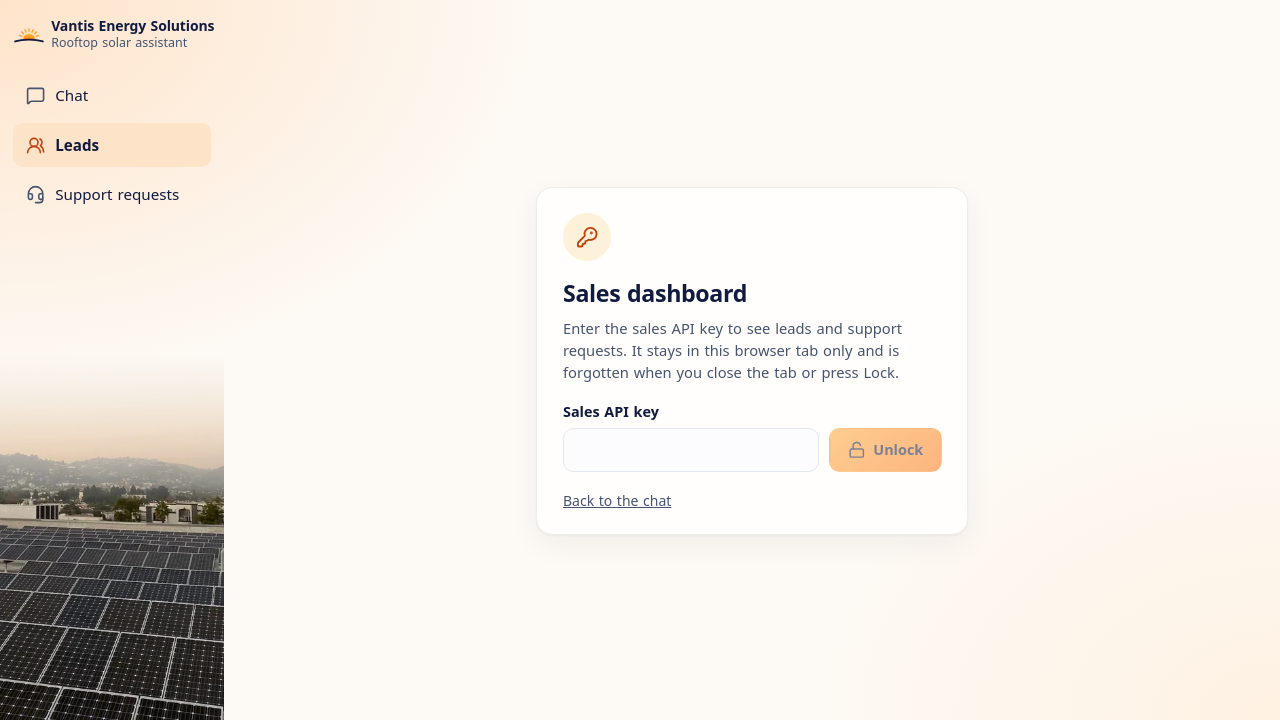
Test: unlock › 429: says how long to wait, from retry_after or the Retry-After header
In the password field labelled "Sales API key": [691, 450] box [563,428,820,472], type "test-sales-key-0123456789"
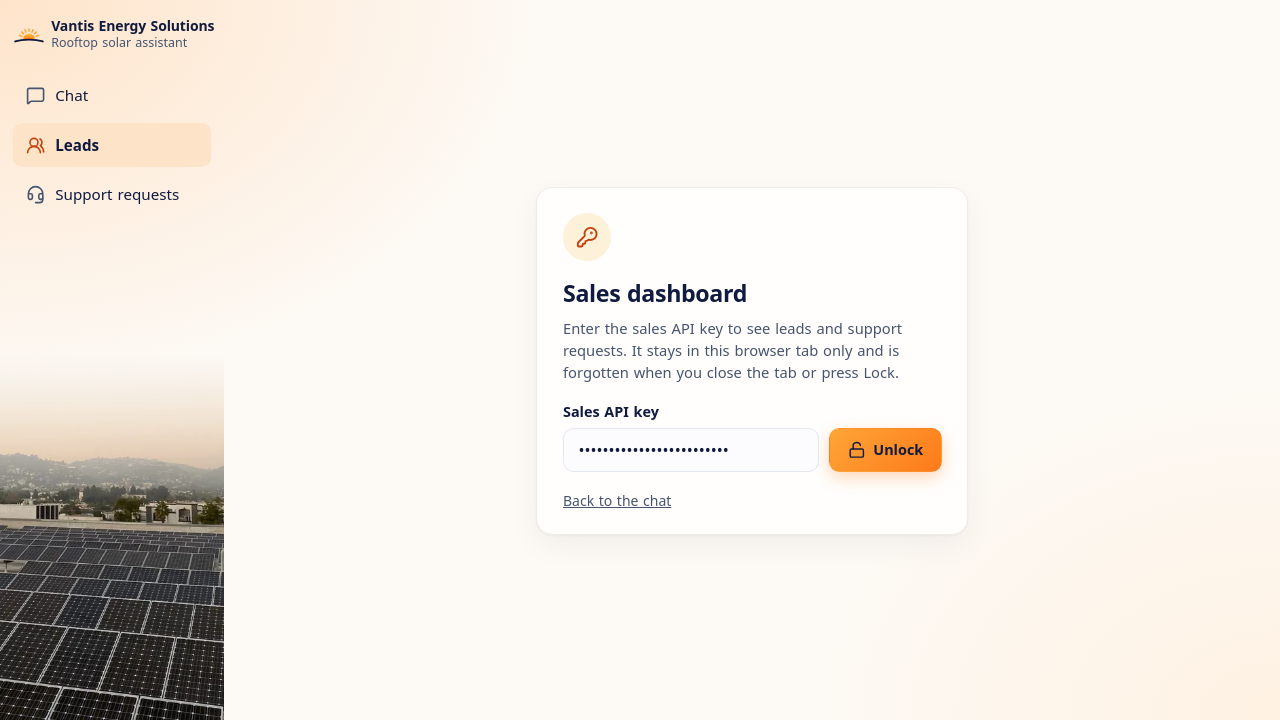
Click the button "Unlock": [885, 450] box [829,428,942,472]
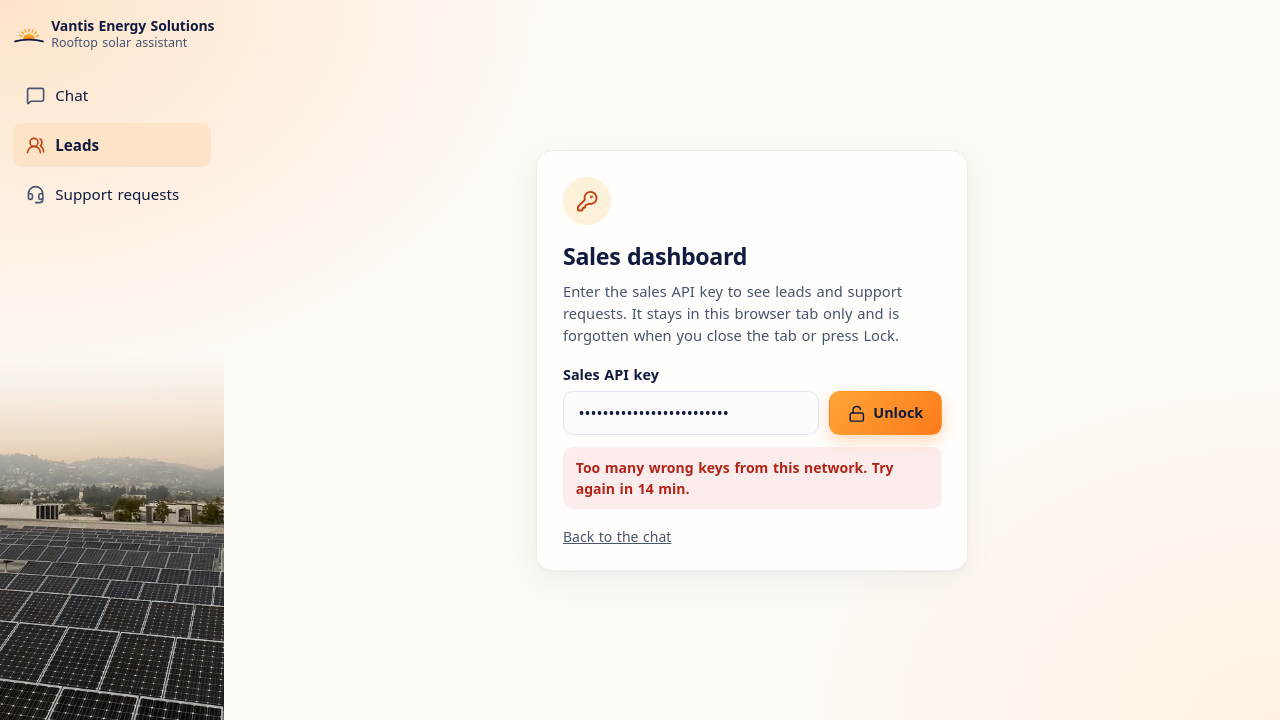
Now the message reads "Too many wrong keys from this network. Try again in 14 min.", box [576,458,894,498]
Click the button "Unlock": [885, 413] box [829,391,942,435]
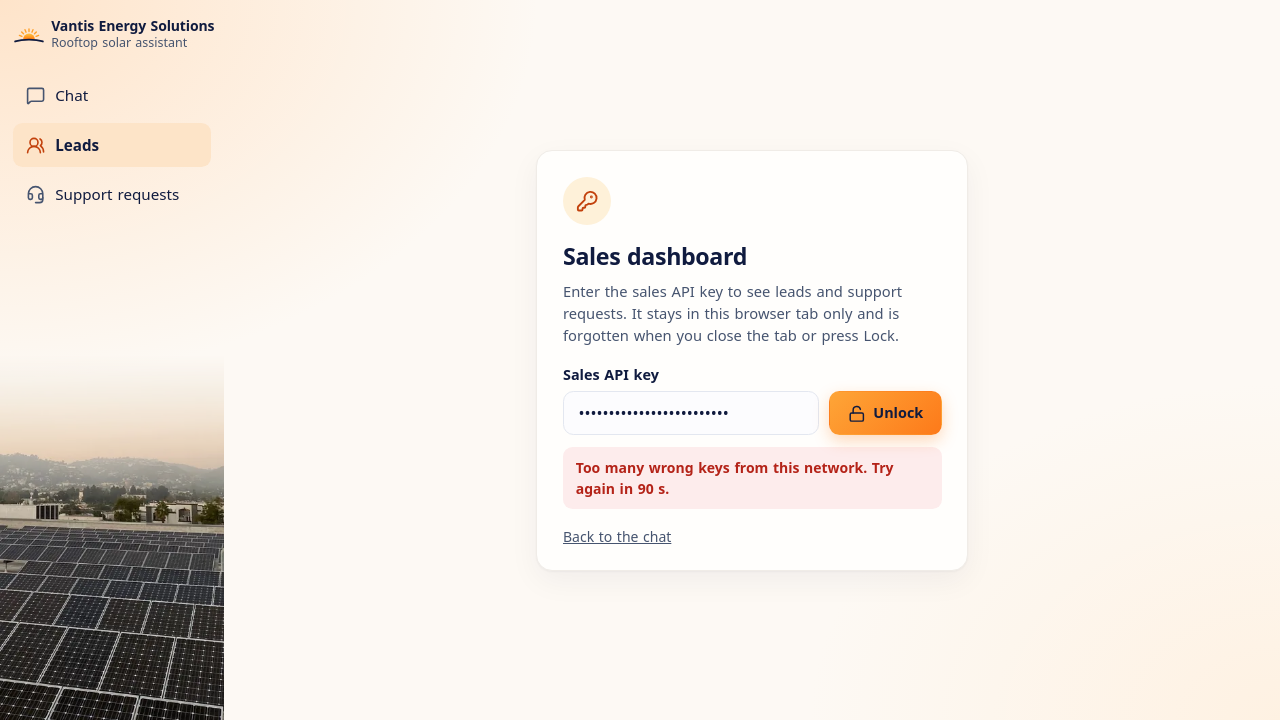
Now the message reads "Too many wrong keys from this network. Try again in 90 s.", box [576,458,894,498]
